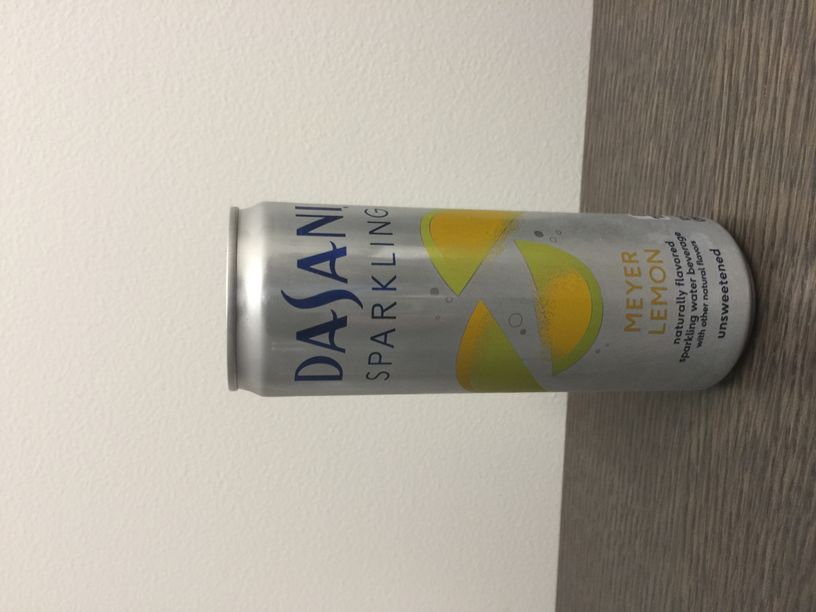lemon: (212, 193, 763, 406)
